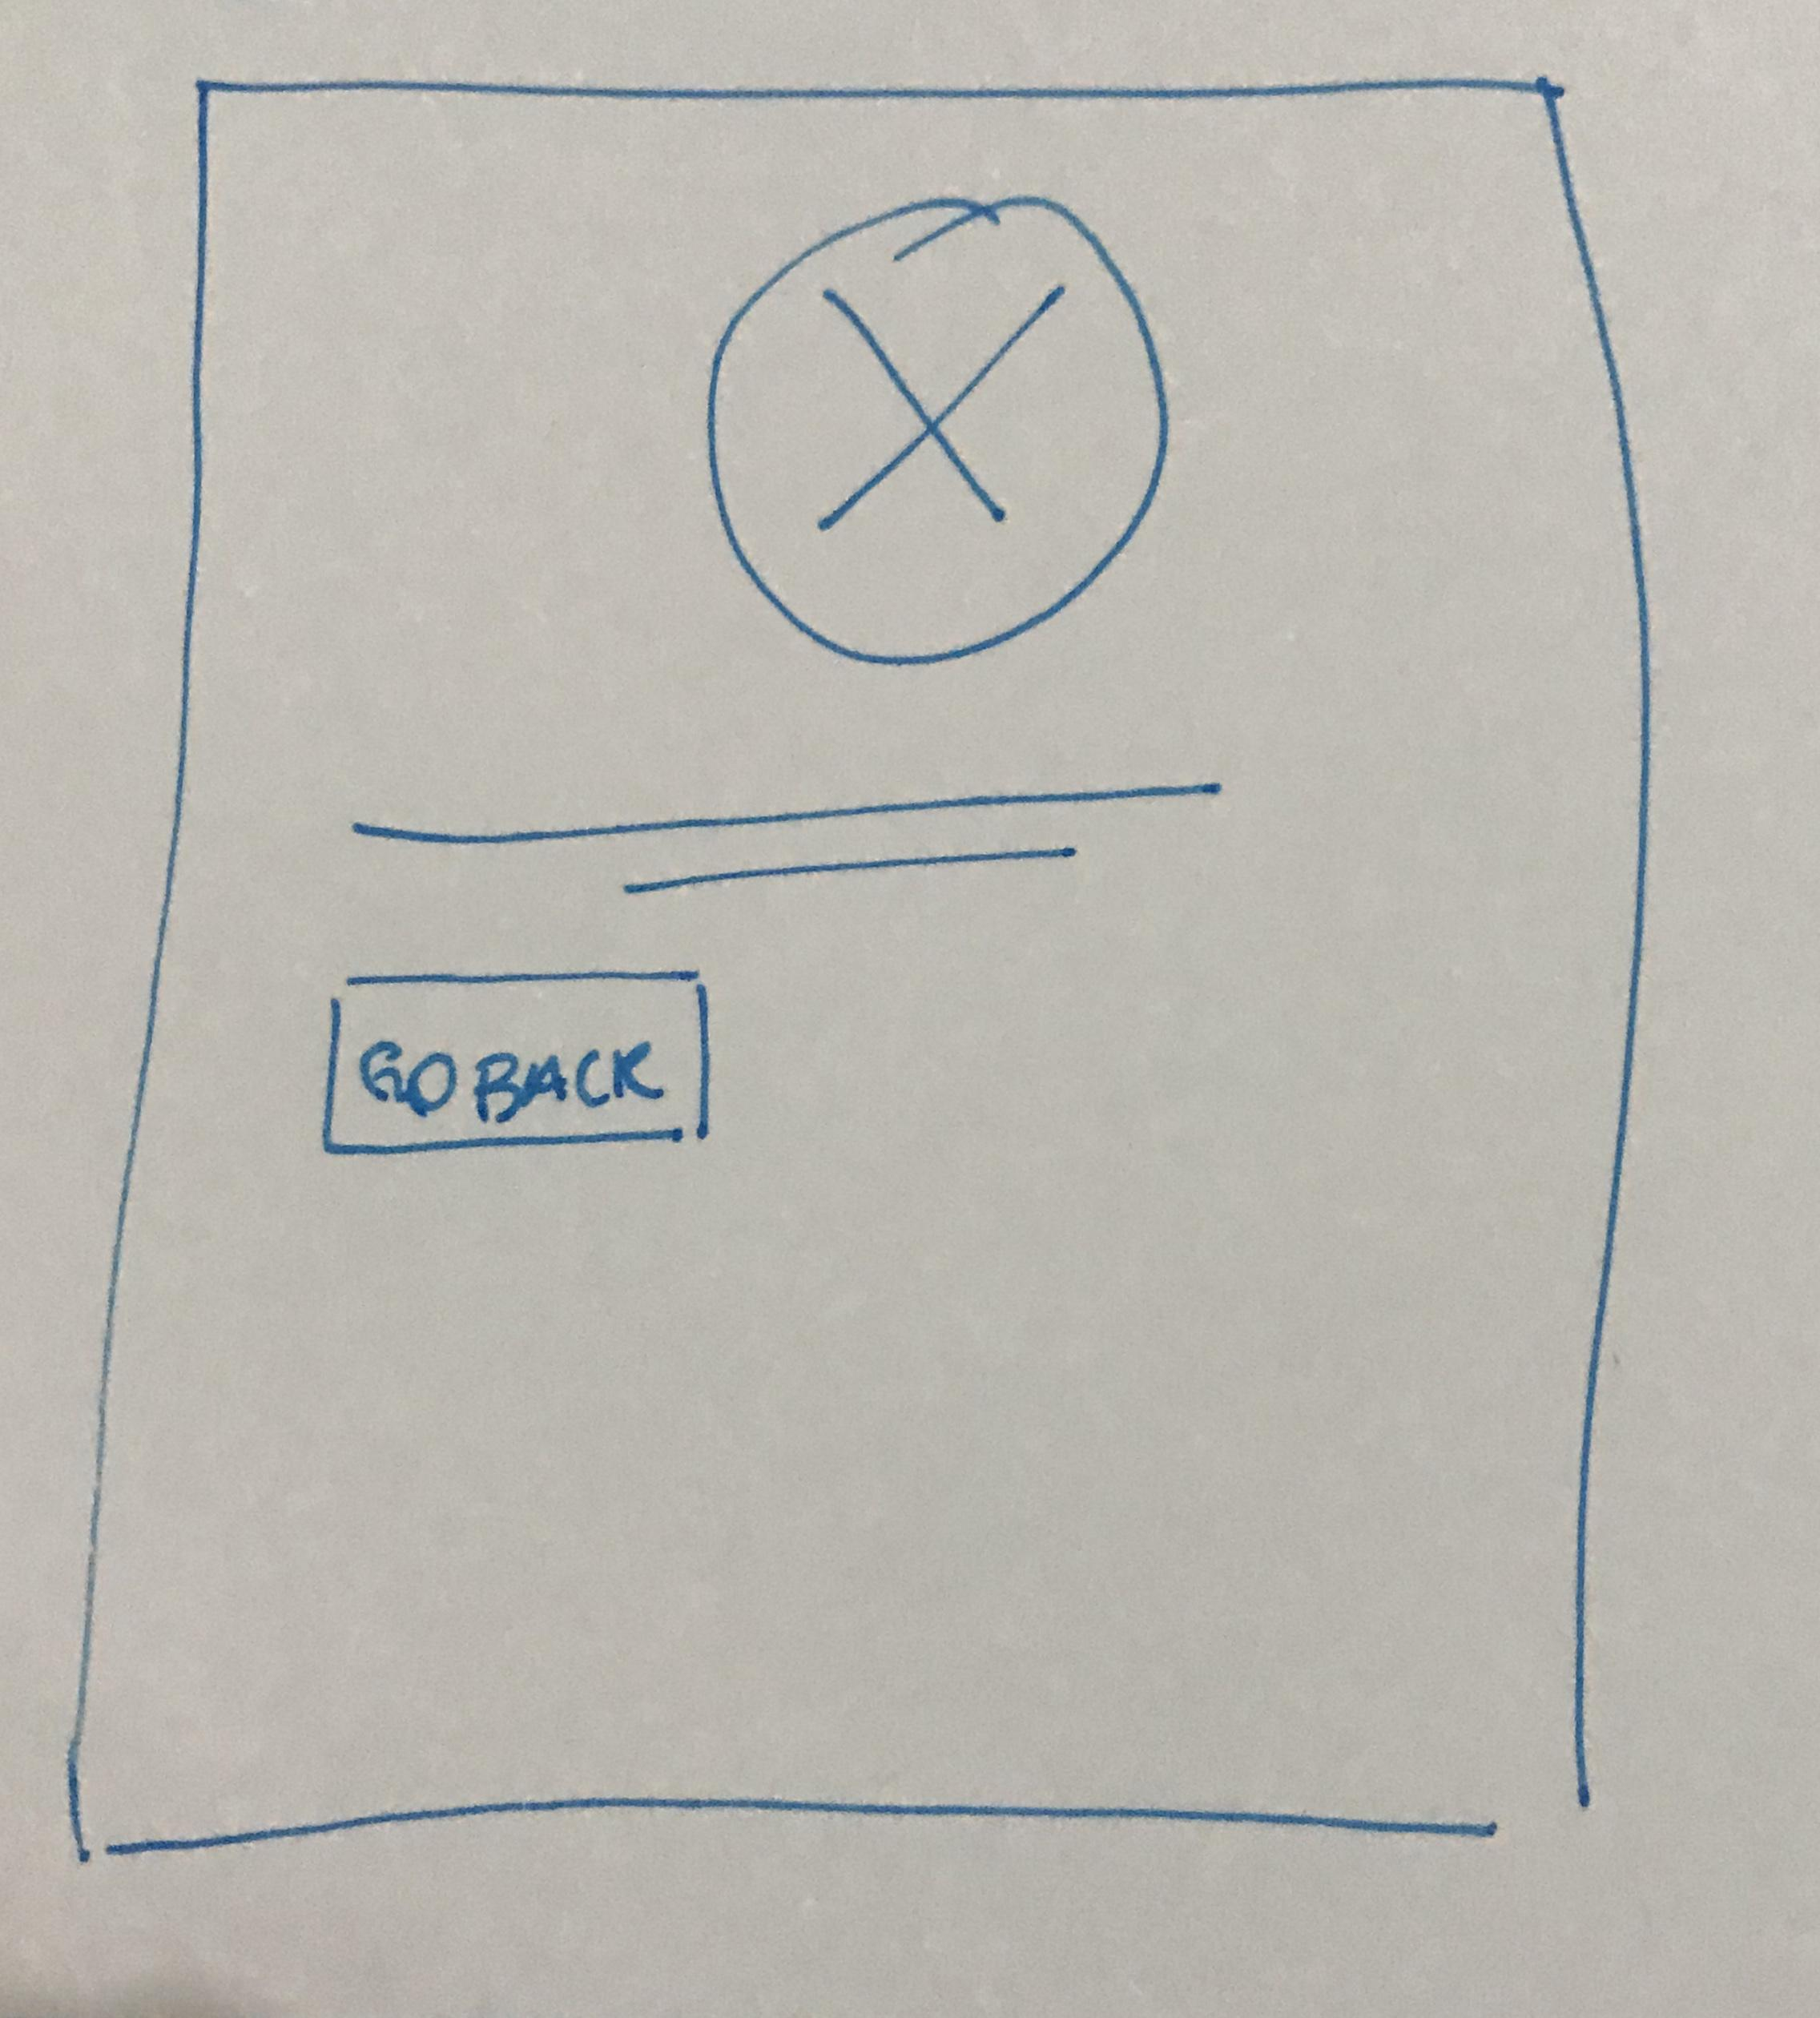Button: (323, 971, 710, 1157)
Image: (710, 191, 1166, 664)
Label: (351, 778, 1230, 897)
Screen: (74, 81, 1650, 1862)
